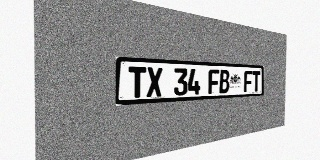3: (174, 68, 187, 96)
4: (188, 68, 200, 95)
B: (219, 70, 229, 93)
F: (208, 69, 219, 94), (244, 71, 252, 92)
T: (128, 66, 146, 98), (252, 71, 260, 92)
X: (146, 67, 162, 97)
